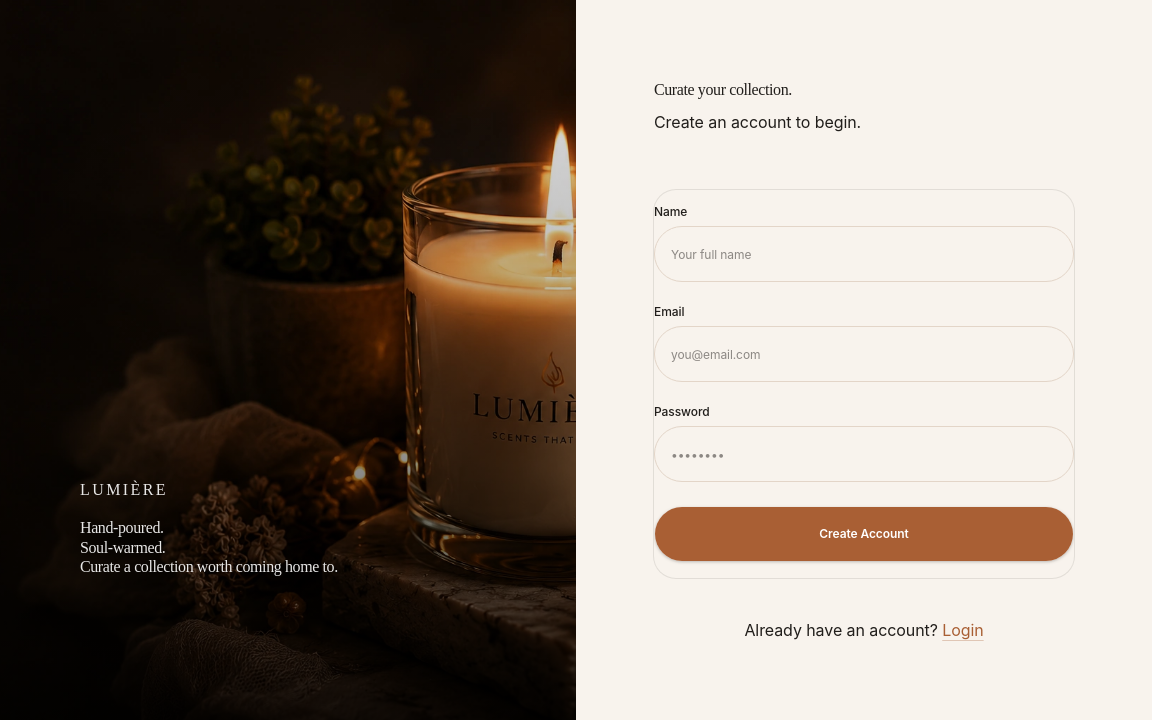
RegisterPage › client-side validation blocks submit on a too-short password
In the field labelled "Name": (864, 254) [654,226,1074,282], type "Jane"
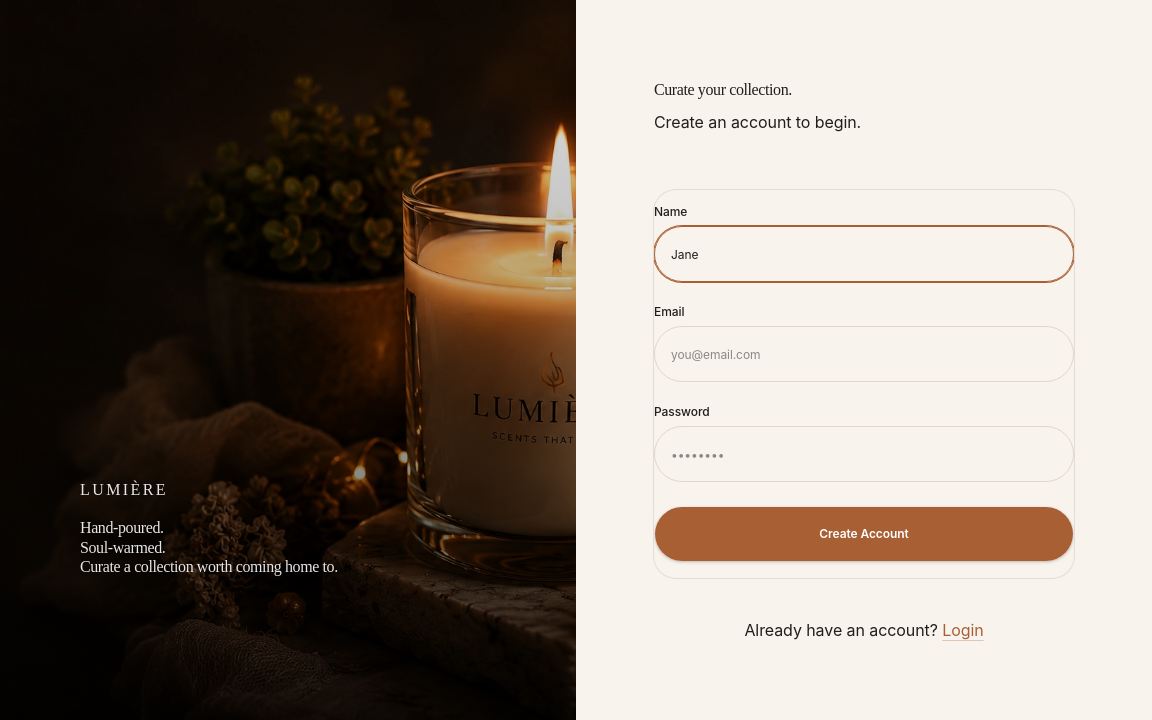
In the field labelled "Email": (864, 354) [654,326,1074,382], type "jane@example.com"
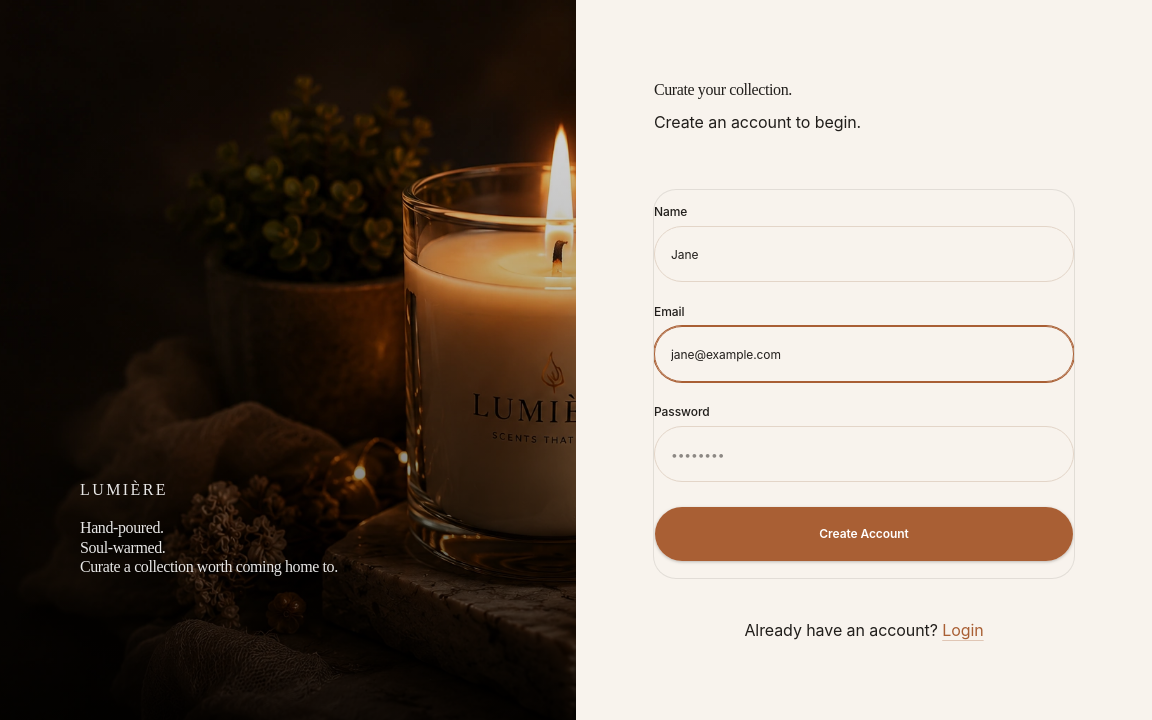
In the password field labelled "Password": (864, 454) [654,426,1074,482], type "short"
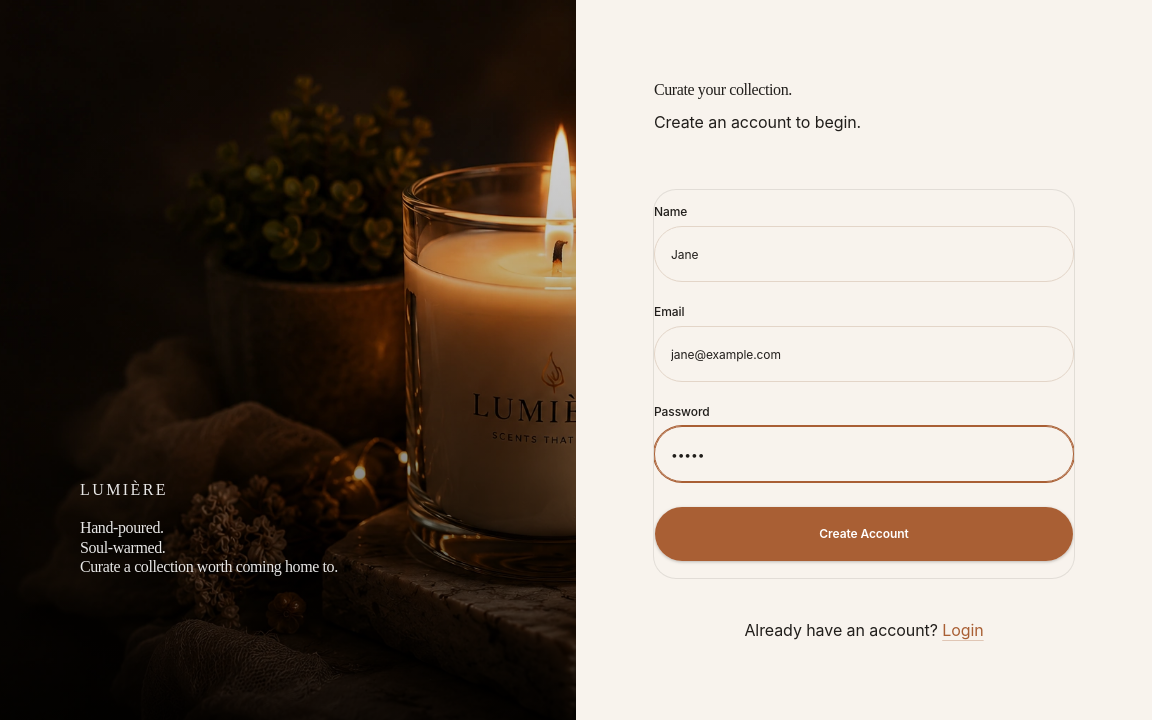
Click the button "Create Account": (864, 534) [654,506,1074,562]
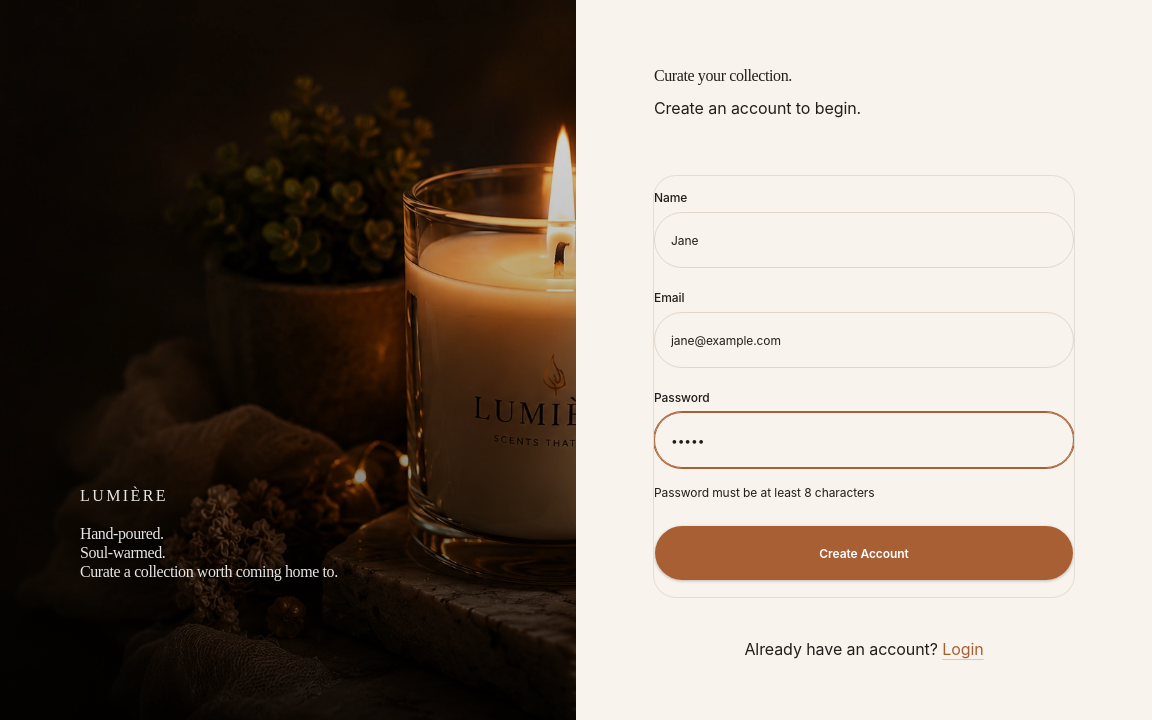
Now the text "Password must be at least 8 characters" is shown, box [654,485,874,500]
